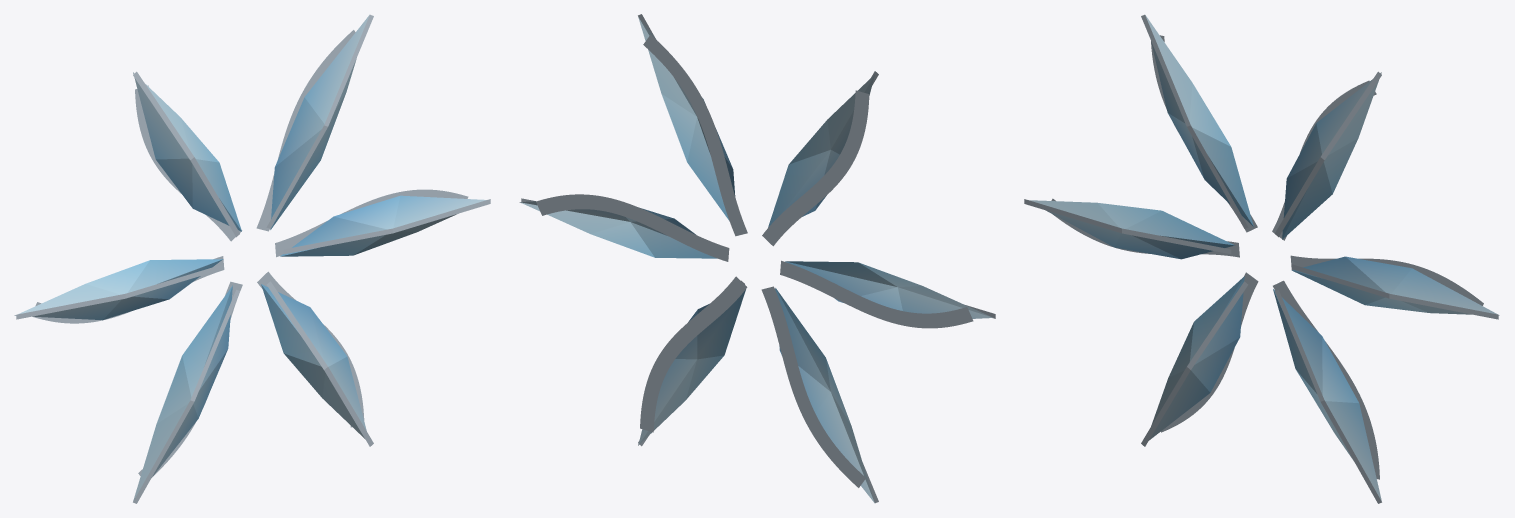
The model's file is Ganyu_FrostflakeArrowBloom_FrostBloomPetal.fbx.
The picture shows the model from 3 angles, left to right: view 1: azimuth 30°, elevation 25°; view 2: azimuth 150°, elevation 25°; view 3: azimuth 330°, elevation 25°; orthographic projection.
Visible parts, largest first — view 1: PART_FrostflakeChiseledLeaf_4, PART_FrostflakeChiseledLeaf_1, PART_FrostflakeChiseledLeaf_3, PART_FrostflakeChiseledLeaf_0, PART_FrostflakeChiseledLeaf_5, PART_FrostflakeChiseledLeaf_2, PART_SixBranchFrostBloom_1, PART_FrostflakeWhiteCrystalRidge_1, PART_FrostflakeWhiteCrystalRidge_3, PART_FrostflakeWhiteCrystalRidge_4, PART_FrostflakeWhiteCrystalRidge_0, PART_FrostflakeWhiteCrystalRidge_2 (+4 smaller); view 2: PART_FrostflakeChiseledLeaf_4, PART_FrostflakeChiseledLeaf_3, PART_FrostflakeChiseledLeaf_5, PART_FrostflakeChiseledLeaf_2, PART_FrostflakeChiseledLeaf_0, PART_FrostflakeChiseledLeaf_1, PART_SixBranchFrostBloom_3, PART_SixBranchFrostBloom_0, PART_SixBranchFrostBloom_4, PART_SixBranchFrostBloom_1, PART_SixBranchFrostBloom_2, PART_SixBranchFrostBloom_5; view 3: PART_FrostflakeChiseledLeaf_2, PART_FrostflakeChiseledLeaf_5, PART_FrostflakeChiseledLeaf_3, PART_FrostflakeChiseledLeaf_0, PART_FrostflakeChiseledLeaf_1, PART_FrostflakeChiseledLeaf_4, PART_SixBranchFrostBloom_5, PART_FrostflakeWhiteCrystalRidge_2, PART_FrostflakeWhiteCrystalRidge_0, PART_FrostflakeWhiteCrystalRidge_5, PART_FrostflakeWhiteCrystalRidge_3, PART_FrostflakeWhiteCrystalRidge_1 (+4 smaller).
Part boxes in pixels (x1,y1,x2,y2): PART_FrostflakeChiseledLeaf_4: (133,285,232,501); PART_FrostflakeChiseledLeaf_1: (270,14,369,229); PART_FrostflakeChiseledLeaf_3: (14,259,223,320); PART_FrostflakeChiseledLeaf_0: (280,195,486,256); PART_FrostflakeChiseledLeaf_5: (261,284,366,438); PART_FrostflakeChiseledLeaf_2: (133,72,241,231); PART_SixBranchFrostBloom_1: (256,30,355,231); PART_FrostflakeWhiteCrystalRidge_1: (266,14,373,228); PART_FrostflakeWhiteCrystalRidge_3: (16,264,223,319); PART_FrostflakeWhiteCrystalRidge_4: (133,289,240,503); PART_FrostflakeWhiteCrystalRidge_0: (283,199,490,254); PART_FrostflakeWhiteCrystalRidge_2: (133,71,239,237); PART_FrostflakeChiseledLeaf_4: (775,288,874,503); PART_FrostflakeChiseledLeaf_3: (785,261,993,318); PART_FrostflakeChiseledLeaf_5: (638,289,745,445); PART_FrostflakeChiseledLeaf_2: (768,74,874,227); PART_FrostflakeChiseledLeaf_0: (519,201,716,258); PART_FrostflakeChiseledLeaf_1: (638,16,735,220); PART_SixBranchFrostBloom_3: (780,260,973,328); PART_SixBranchFrostBloom_0: (536,194,729,261); PART_SixBranchFrostBloom_4: (761,286,865,487); PART_SixBranchFrostBloom_1: (643,34,747,236); PART_SixBranchFrostBloom_2: (762,90,869,246); PART_SixBranchFrostBloom_5: (640,276,747,432); PART_FrostflakeChiseledLeaf_2: (1145,15,1253,226); PART_FrostflakeChiseledLeaf_5: (1273,289,1381,501); PART_FrostflakeChiseledLeaf_3: (1028,200,1234,259); PART_FrostflakeChiseledLeaf_0: (1292,256,1499,315); PART_FrostflakeChiseledLeaf_1: (1282,72,1381,239); PART_FrostflakeChiseledLeaf_4: (1149,276,1244,440); PART_SixBranchFrostBloom_5: (1273,280,1379,479); PART_FrostflakeWhiteCrystalRidge_2: (1141,14,1248,228); PART_FrostflakeWhiteCrystalRidge_0: (1291,264,1498,319); PART_FrostflakeWhiteCrystalRidge_5: (1274,289,1381,503); PART_FrostflakeWhiteCrystalRidge_3: (1024,199,1231,254); PART_FrostflakeWhiteCrystalRidge_1: (1275,71,1381,237).
Size of the model in its own units: 220 by 192 by 7.7.
